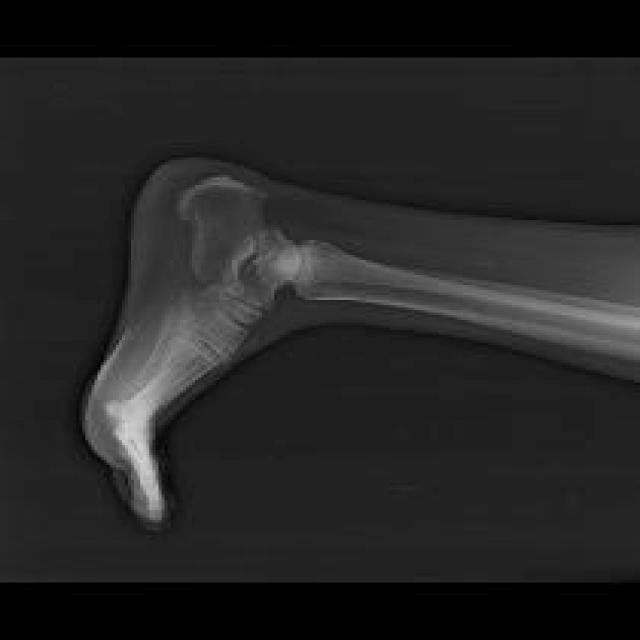normal: (104, 176, 638, 521)
